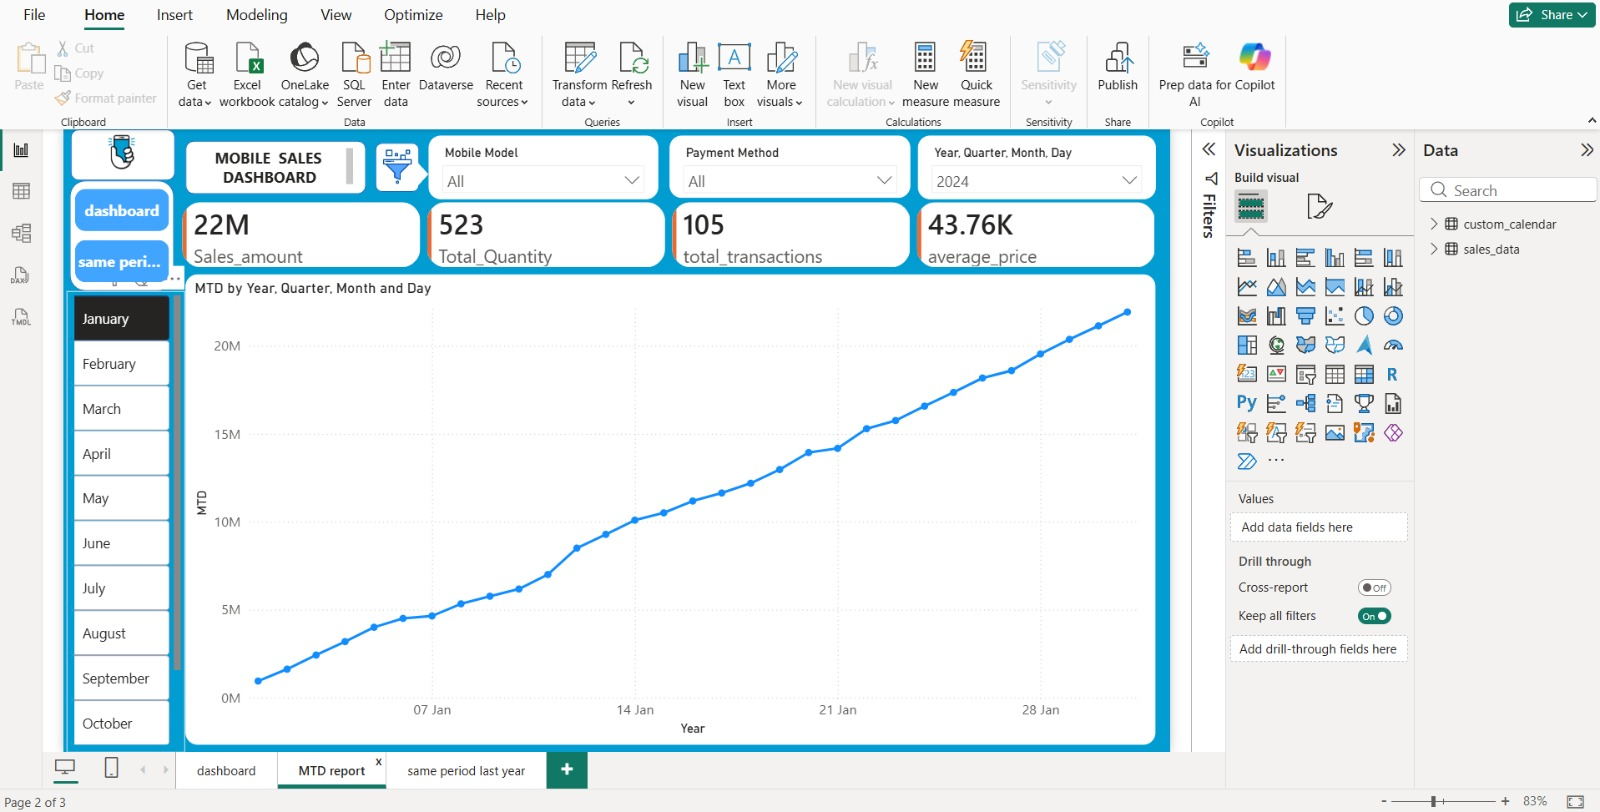

The dashboard page shown, as its layout file describes it:
{"tool":"powerbi","page":{"name":"MTD report","canvas":[1280,720],"ordinal":1},"visuals":[{"type":"shape","box":[8.4,0,120.6,59.1],"z":0},{"type":"image","box":[8.2,0,118,52.1],"z":1000},{"type":"shape","box":[7.2,59.1,120.6,127.9],"z":2000},{"type":"slicer","fields":{"Values":["sales_data.Mobile Model"]},"box":[422.3,7.2,265.4,73.6],"z":3000},{"type":"slicer","fields":{"Values":["sales_data.Payment Method"]},"box":[700.9,7.2,278.7,72.4],"z":4000},{"type":"slicer","fields":{"Values":["custom_calendar.date.Variation.Date Hierarchy.Year","custom_calendar.date.Variation.Date Hierarchy.Quarter","custom_calendar.date.Variation.Date Hierarchy.Month","custom_calendar.date.Variation.Date Hierarchy.Day"]},"box":[988.1,7.2,275.1,73.6],"z":5000},{"type":"shape","box":[360.7,15.7,50.7,56.7],"z":6000},{"type":"shape","box":[141.2,13.3,208.7,61.5],"z":7000},{"type":"image","box":[349.9,22.9,72.4,41],"z":8000},{"type":"textbox","box":[170.1,16.9,170.1,53.1],"z":9000},{"type":"cardVisual","fields":{"Data":["sales_data.Sales_amount","sales_data.Total_Quantity","sales_data.total_transactions","sales_data.average_price"]},"box":[120.6,67.6,1159.4,109.8],"z":10000},{"type":"shape","box":[398.1,38.6,24.1,26.5],"z":11000},{"type":"lineChart","fields":{"Y":["sales_data.MTD"],"Category":["custom_calendar.date.Variation.Date Hierarchy.Year","custom_calendar.date.Variation.Date Hierarchy.Quarter","custom_calendar.date.Variation.Date Hierarchy.Month","custom_calendar.date.Variation.Date Hierarchy.Day"]},"box":[141.2,167.7,1122,544.1],"z":12000},{"type":"advancedSlicerVisual","fields":{"Values":["custom_calendar.date.Variation.Date Hierarchy.Month"]},"box":[3.6,187,137.5,533.2],"z":13000},{"type":"pageNavigator","box":[13.3,68.8,109.8,109.8],"z":14000}]}

Visuals, with their boxes on the page's 1280x720 design canvas (x1, y1, x2, y2). These are canvas units, not pixel positions in the 1600x812 screenshot, which may show the page scaled, cropped or inside an application window:
shape: (x1=8, y1=0, x2=129, y2=59)
image: (x1=8, y1=0, x2=126, y2=52)
shape: (x1=7, y1=59, x2=128, y2=187)
slicer - sales_data.Mobile Model: (x1=422, y1=7, x2=688, y2=81)
slicer - sales_data.Payment Method: (x1=701, y1=7, x2=980, y2=80)
slicer - custom_calendar.date.Variation.Date Hierarchy.Year x custom_calendar.date.Variation.Date Hierarchy.Quarter: (x1=988, y1=7, x2=1263, y2=81)
shape: (x1=361, y1=16, x2=411, y2=72)
shape: (x1=141, y1=13, x2=350, y2=75)
image: (x1=350, y1=23, x2=422, y2=64)
textbox: (x1=170, y1=17, x2=340, y2=70)
cardVisual - sales_data.Sales_amount x sales_data.Total_Quantity: (x1=121, y1=68, x2=1280, y2=177)
shape: (x1=398, y1=39, x2=422, y2=65)
lineChart - sales_data.MTD x custom_calendar.date.Variation.Date Hierarchy.Year: (x1=141, y1=168, x2=1263, y2=712)
advancedSlicerVisual - custom_calendar.date.Variation.Date Hierarchy.Month: (x1=4, y1=187, x2=141, y2=720)
pageNavigator: (x1=13, y1=69, x2=123, y2=179)
